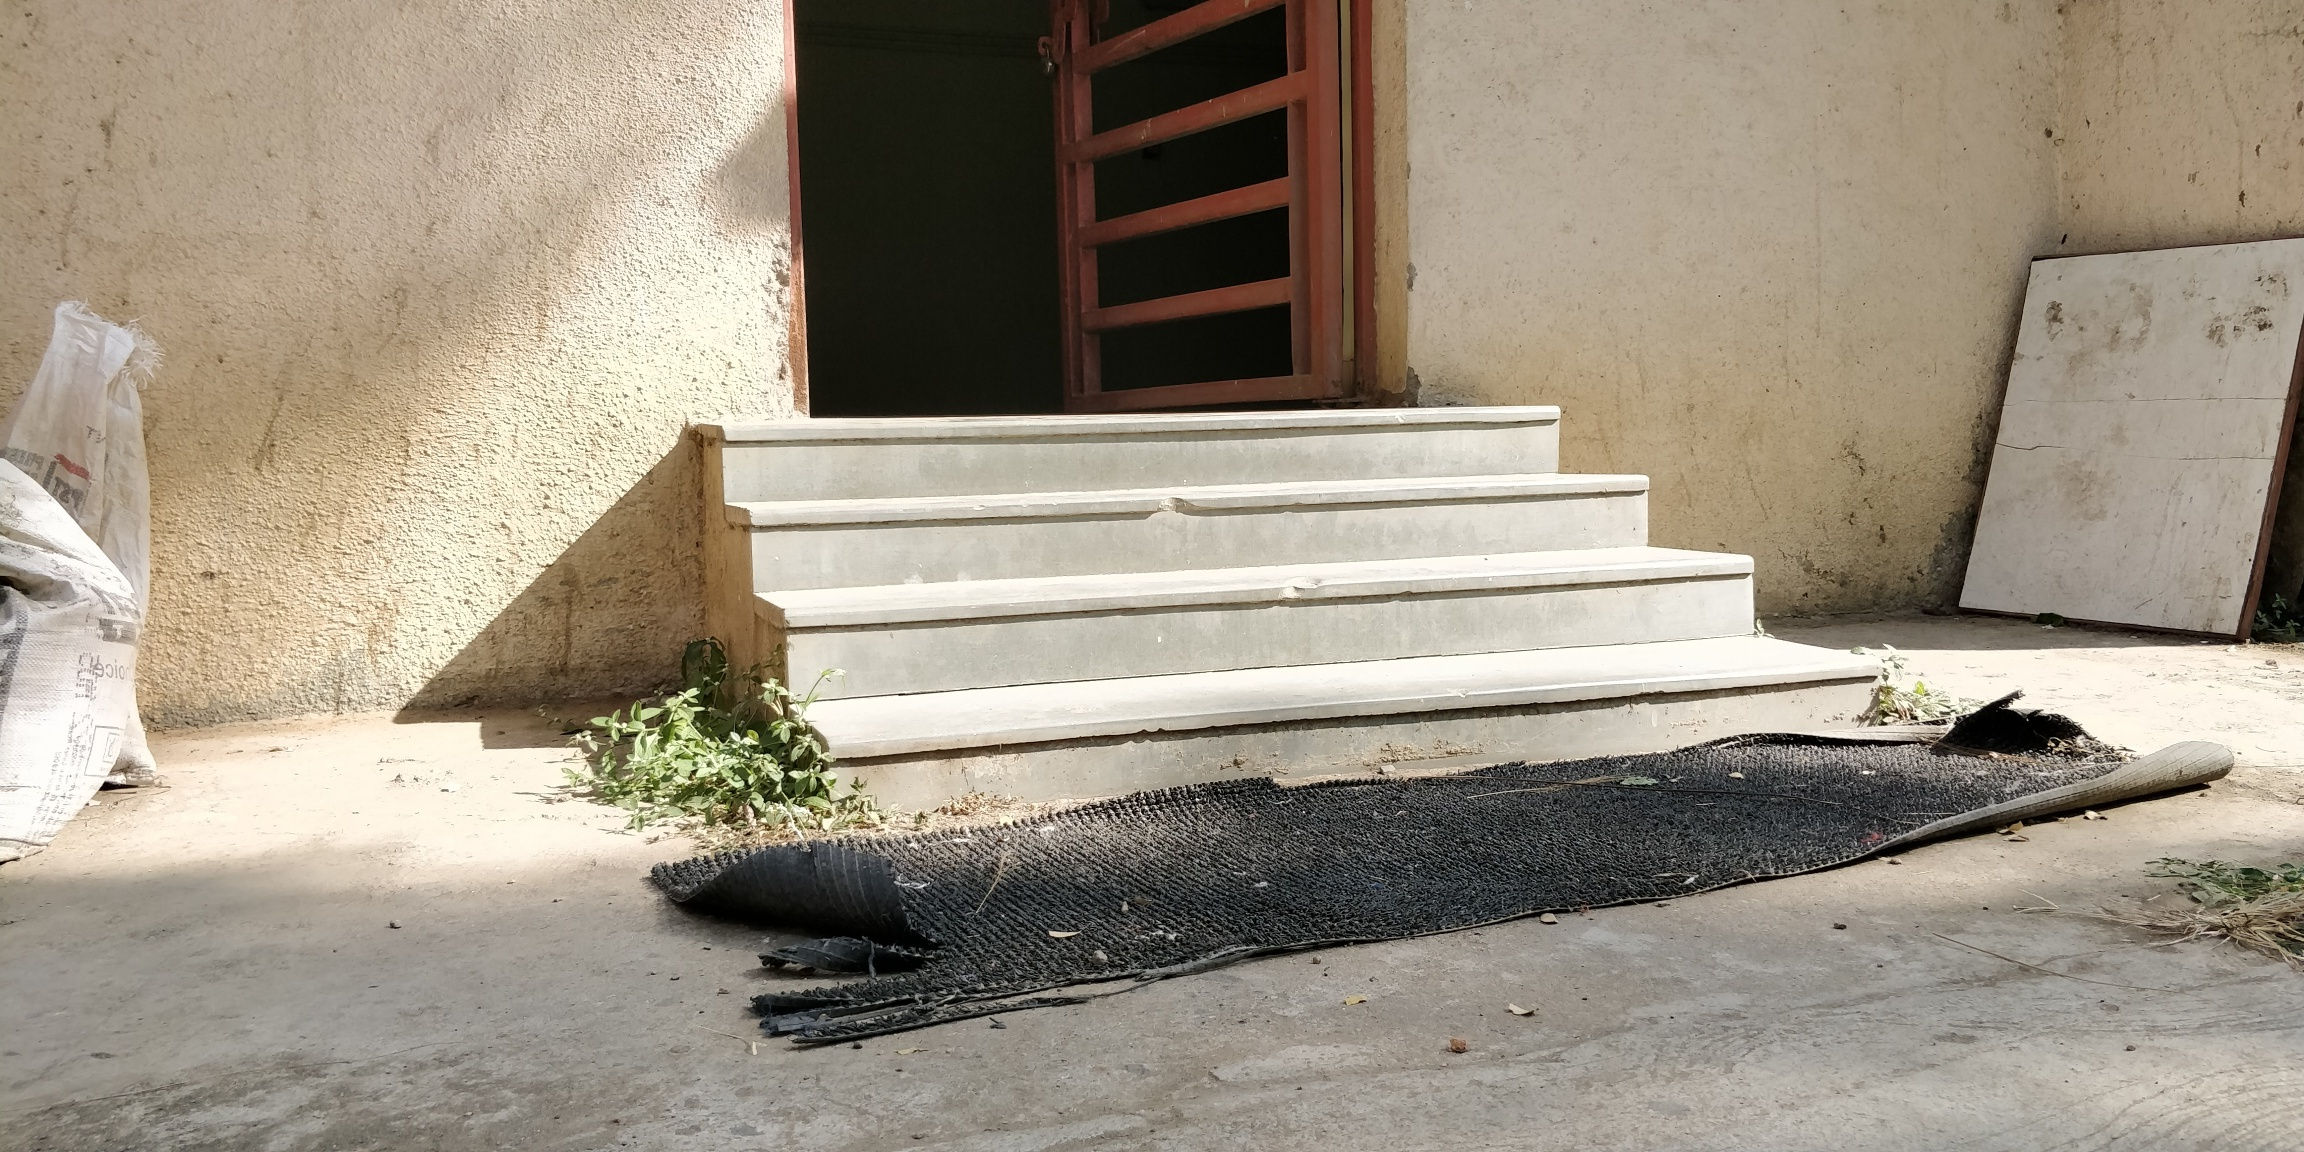stairs_up: (710, 411, 1901, 749)
